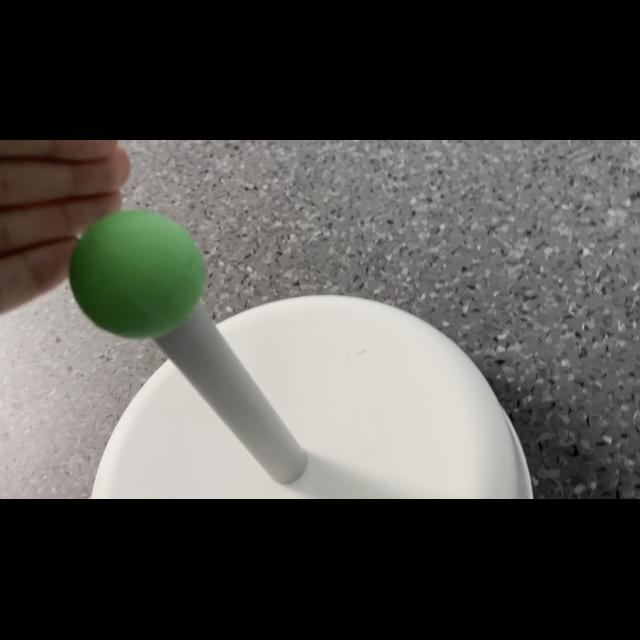objects: (63, 203, 209, 343)
